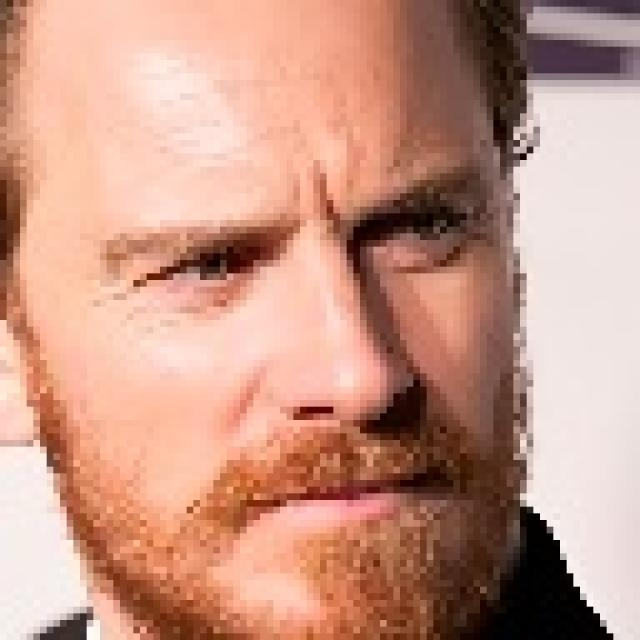angry: (14, 0, 575, 640)
